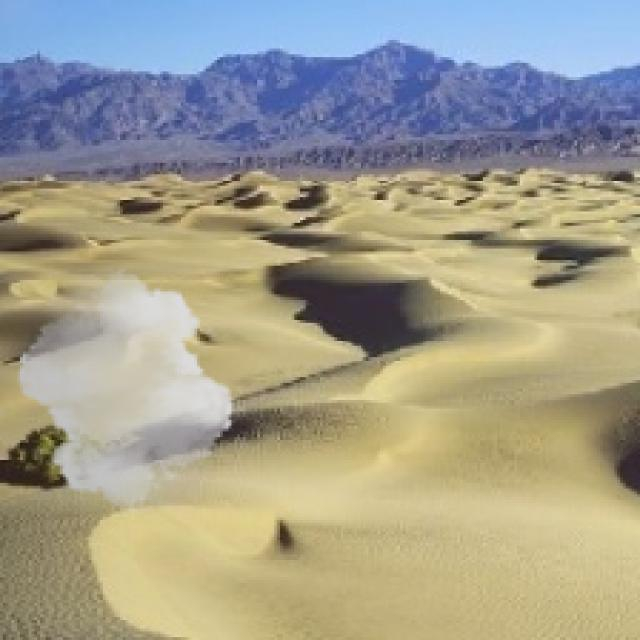smoke: (8, 269, 243, 514)
